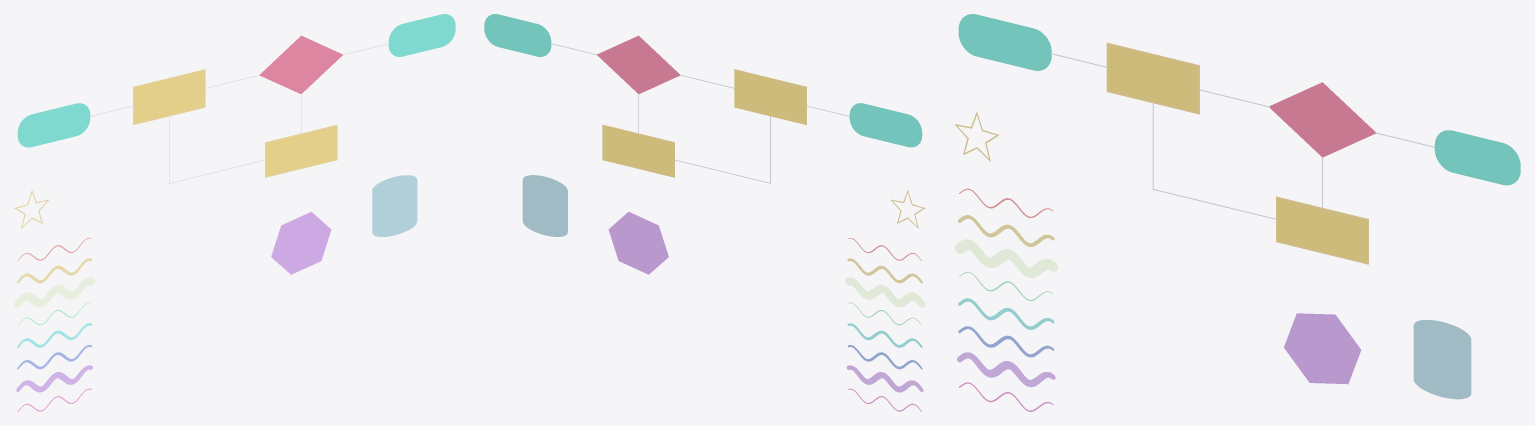
3 renders of one model, left to right at view 1: azimuth 30°, elevation 25°; view 2: azimuth 150°, elevation 25°; view 3: azimuth 330°, elevation 25°, orthographic. The views are drawn at different scales.
Visible parts, largest first — view 1: i403d1b24cbaf, ic6bbb7cde8f1, i9fe4786e6fa1, i7f6b433623a3, i0735c3395839, i417de572d5ed, ibad3bd9482da, ib391018037d7, i983578d5c9e9; view 2: i403d1b24cbaf, ic6bbb7cde8f1, i9fe4786e6fa1, i7f6b433623a3, i0735c3395839, i417de572d5ed, ibad3bd9482da, ib391018037d7, i983578d5c9e9; view 3: i403d1b24cbaf, ic6bbb7cde8f1, i9fe4786e6fa1, i7f6b433623a3, i0735c3395839, i417de572d5ed, ibad3bd9482da, ib391018037d7, i983578d5c9e9.
Part boxes in pixels (box(x1,y1,x2,y2)): i403d1b24cbaf: box(133, 69, 205, 125); ic6bbb7cde8f1: box(265, 124, 337, 177); i9fe4786e6fa1: box(372, 175, 417, 236); i7f6b433623a3: box(259, 35, 342, 93); i0735c3395839: box(271, 211, 331, 274); i417de572d5ed: box(17, 103, 90, 147); ibad3bd9482da: box(388, 14, 455, 56); ib391018037d7: box(14, 277, 94, 307); i983578d5c9e9: box(16, 365, 92, 392); i403d1b24cbaf: box(734, 69, 806, 125); ic6bbb7cde8f1: box(602, 124, 674, 177); i9fe4786e6fa1: box(522, 175, 567, 236); i7f6b433623a3: box(597, 35, 680, 93); i0735c3395839: box(608, 211, 668, 274); i417de572d5ed: box(849, 103, 922, 147); ibad3bd9482da: box(484, 14, 551, 56); ib391018037d7: box(845, 277, 924, 307); i983578d5c9e9: box(846, 365, 923, 392); i403d1b24cbaf: box(1106, 42, 1199, 114); ic6bbb7cde8f1: box(1276, 196, 1368, 264); i9fe4786e6fa1: box(1413, 320, 1471, 399); i7f6b433623a3: box(1269, 82, 1376, 157); i0735c3395839: box(1284, 313, 1361, 384); i417de572d5ed: box(958, 14, 1051, 70); ibad3bd9482da: box(1434, 130, 1520, 185); ib391018037d7: box(955, 239, 1057, 277); i983578d5c9e9: box(957, 352, 1055, 387).
Bounding box in the file's own units: 1.61 × 1.09 × 0.0005.
